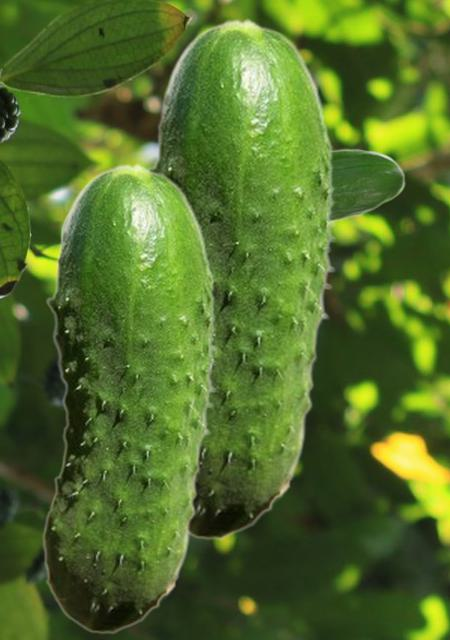cucumber: (148, 17, 336, 539), (42, 162, 217, 633), (60, 148, 404, 232)
